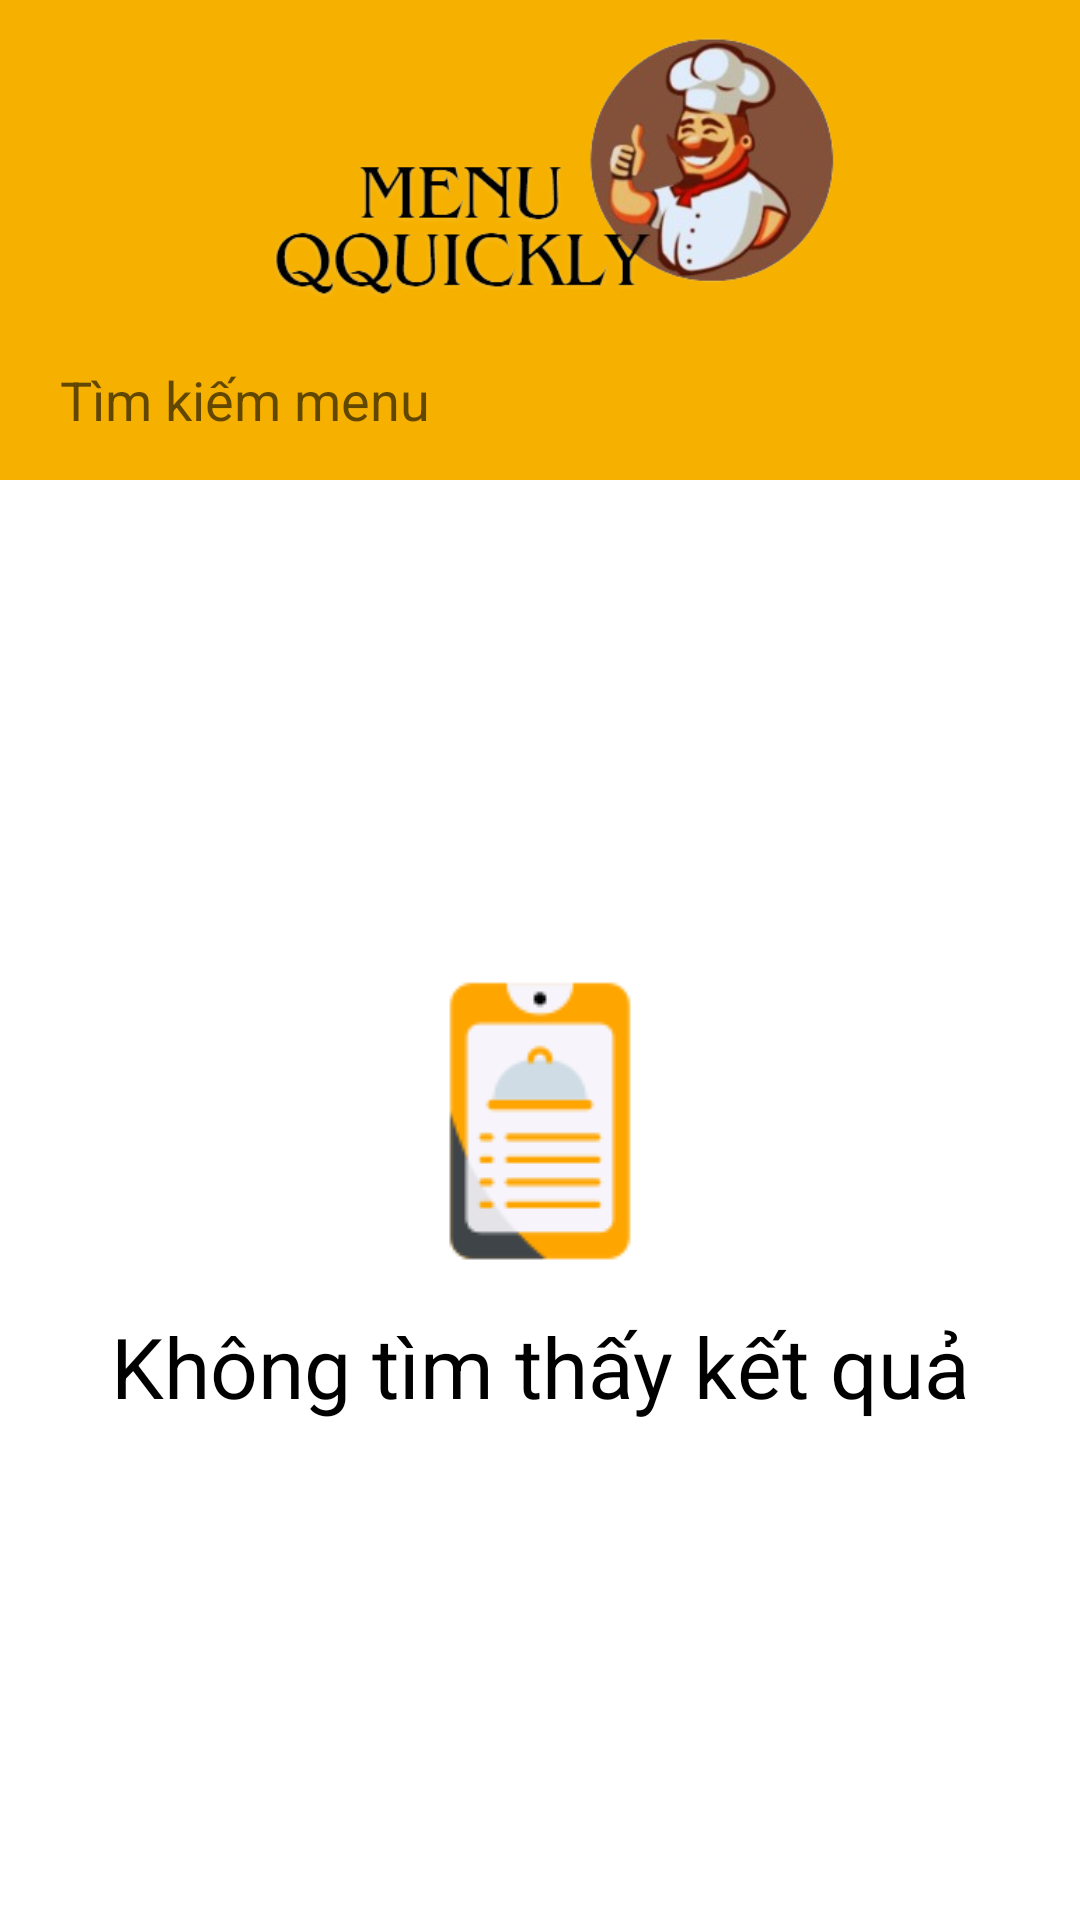

Icon click points for this 1080px×1920px phone screenshot, format point (x, y):
menu: point (540, 1121)
